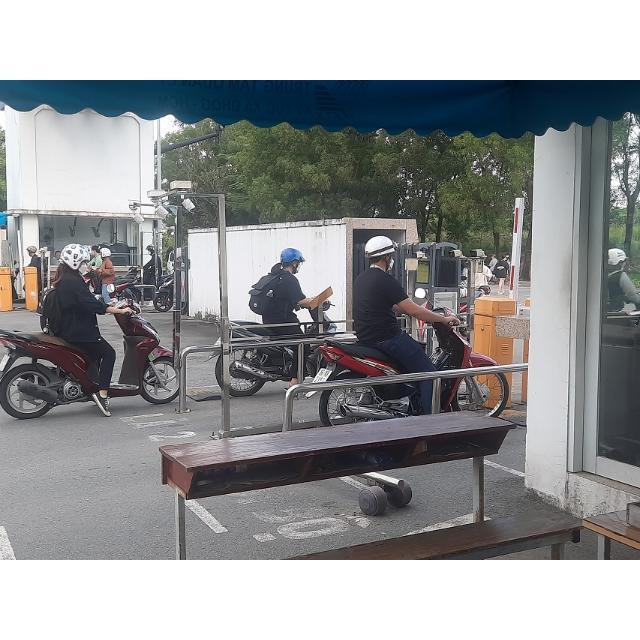Helmet: (59, 240, 89, 280), (364, 235, 396, 268), (278, 244, 304, 276)
